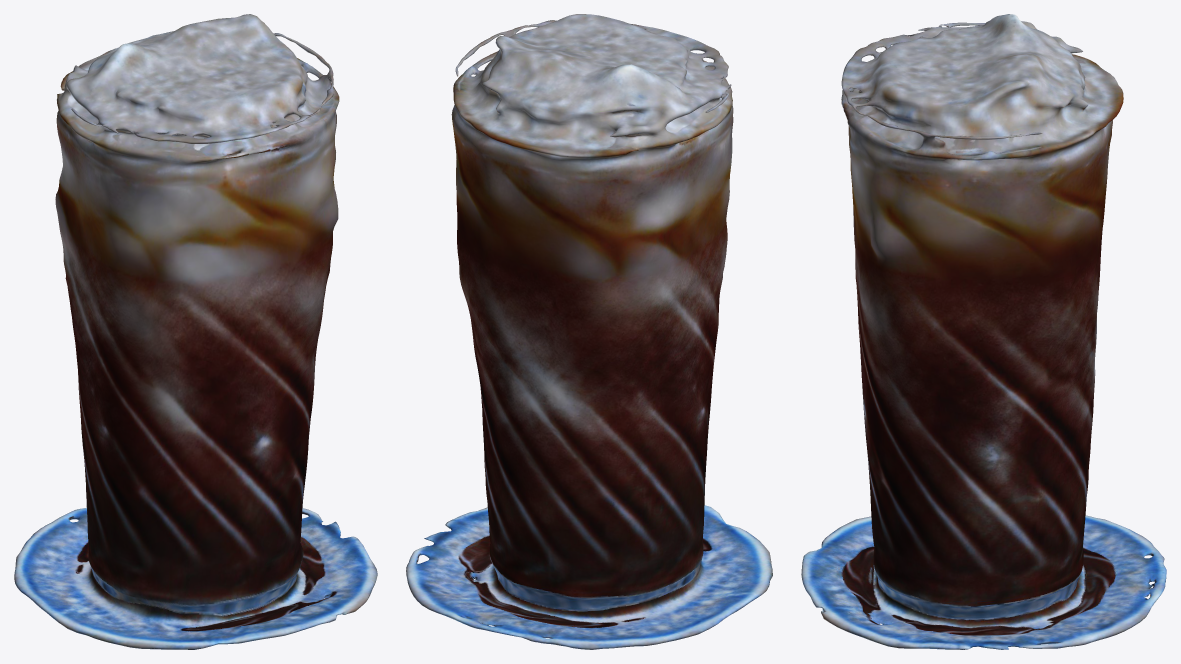
Rendered from iced_americano.glb.
3 renders of one model, left to right at view 1: azimuth 30°, elevation 25°; view 2: azimuth 150°, elevation 25°; view 3: azimuth 270°, elevation 25°, orthographic.
Parts seen in each view (by area): view 1: mesh; view 2: mesh; view 3: mesh.
Boxes of the visible parts, x1,y1,x2,y2 form: mesh: [14, 14, 377, 649]; mesh: [406, 14, 772, 649]; mesh: [801, 14, 1166, 649].
Size of the model in its own units: 0.5908 by 0.9958 by 0.6001.
Materials: 1 (1 with a texture image).
